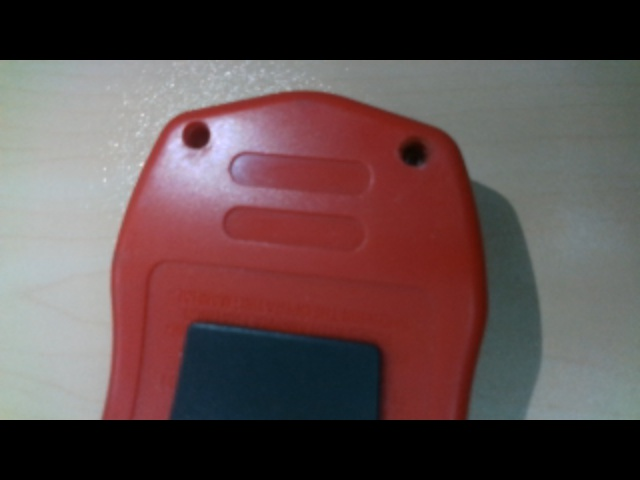Screw holes: (397, 137, 433, 169), (181, 118, 212, 147)
